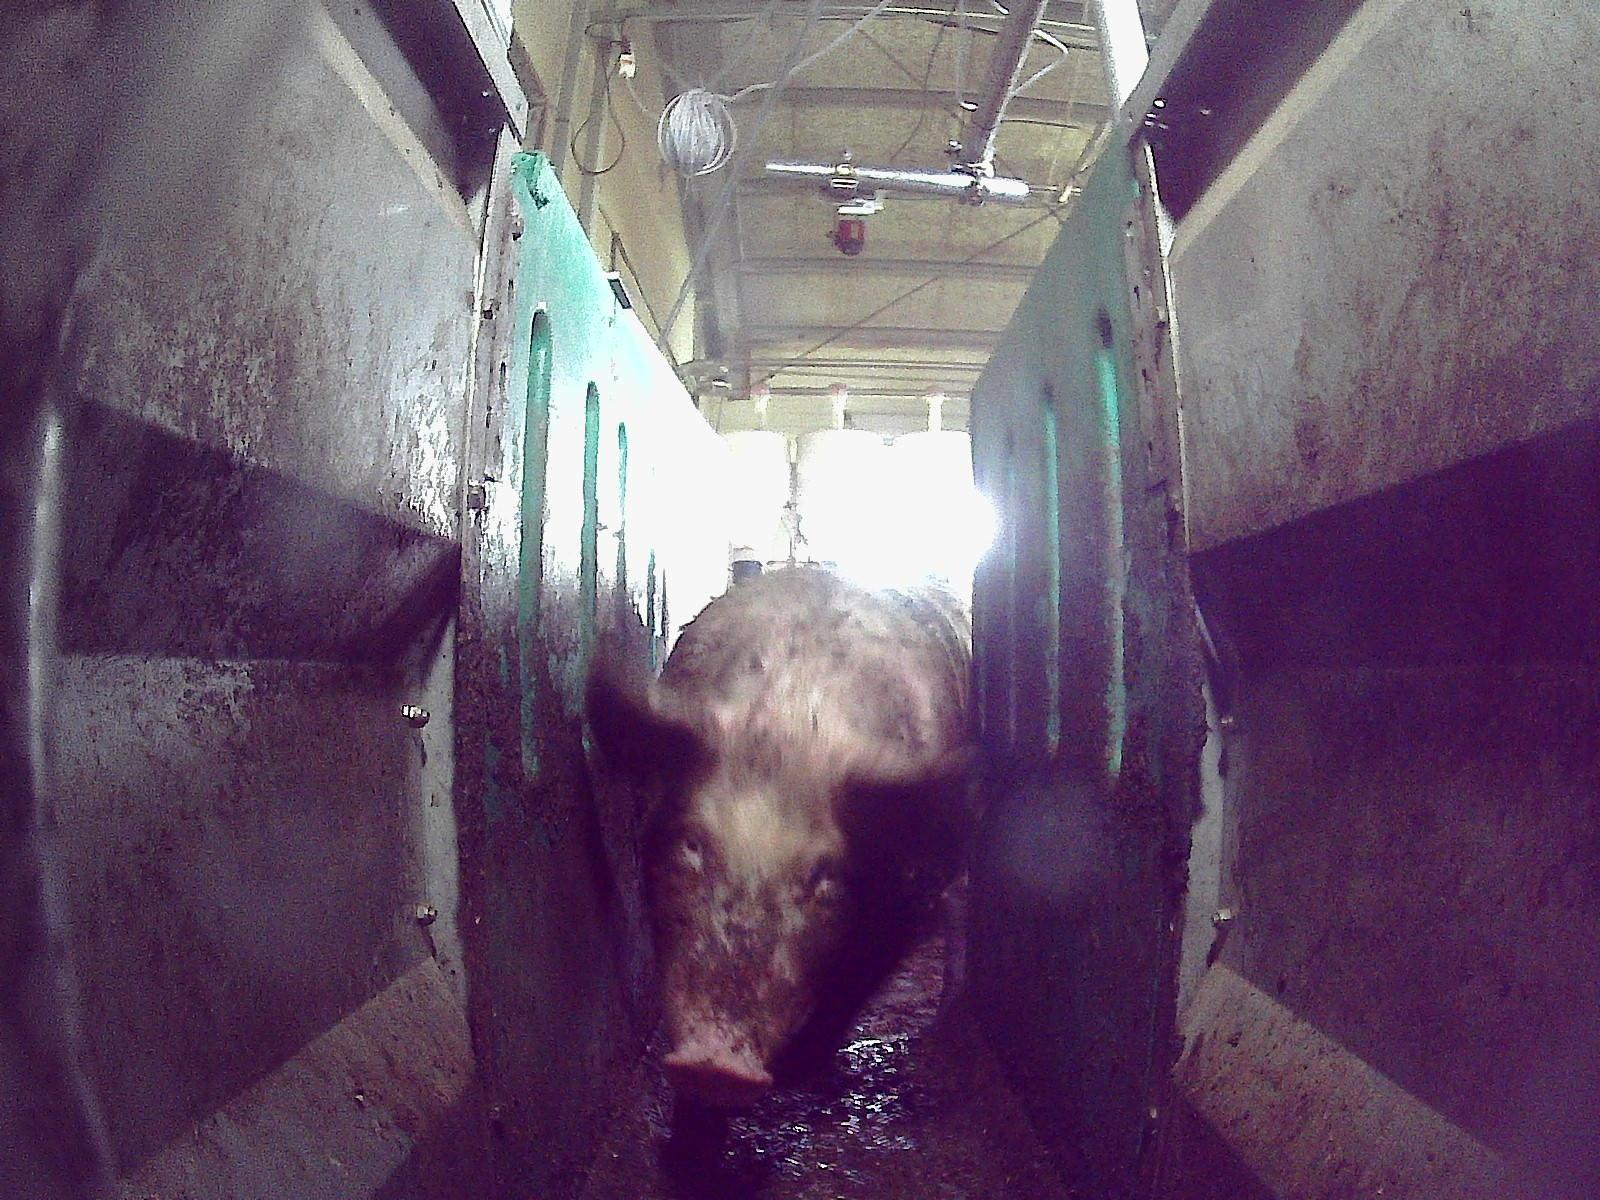Face: (638, 771, 881, 1102)
